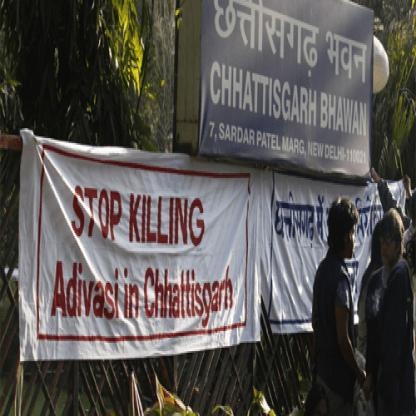BANNER: (33, 140, 251, 336)
